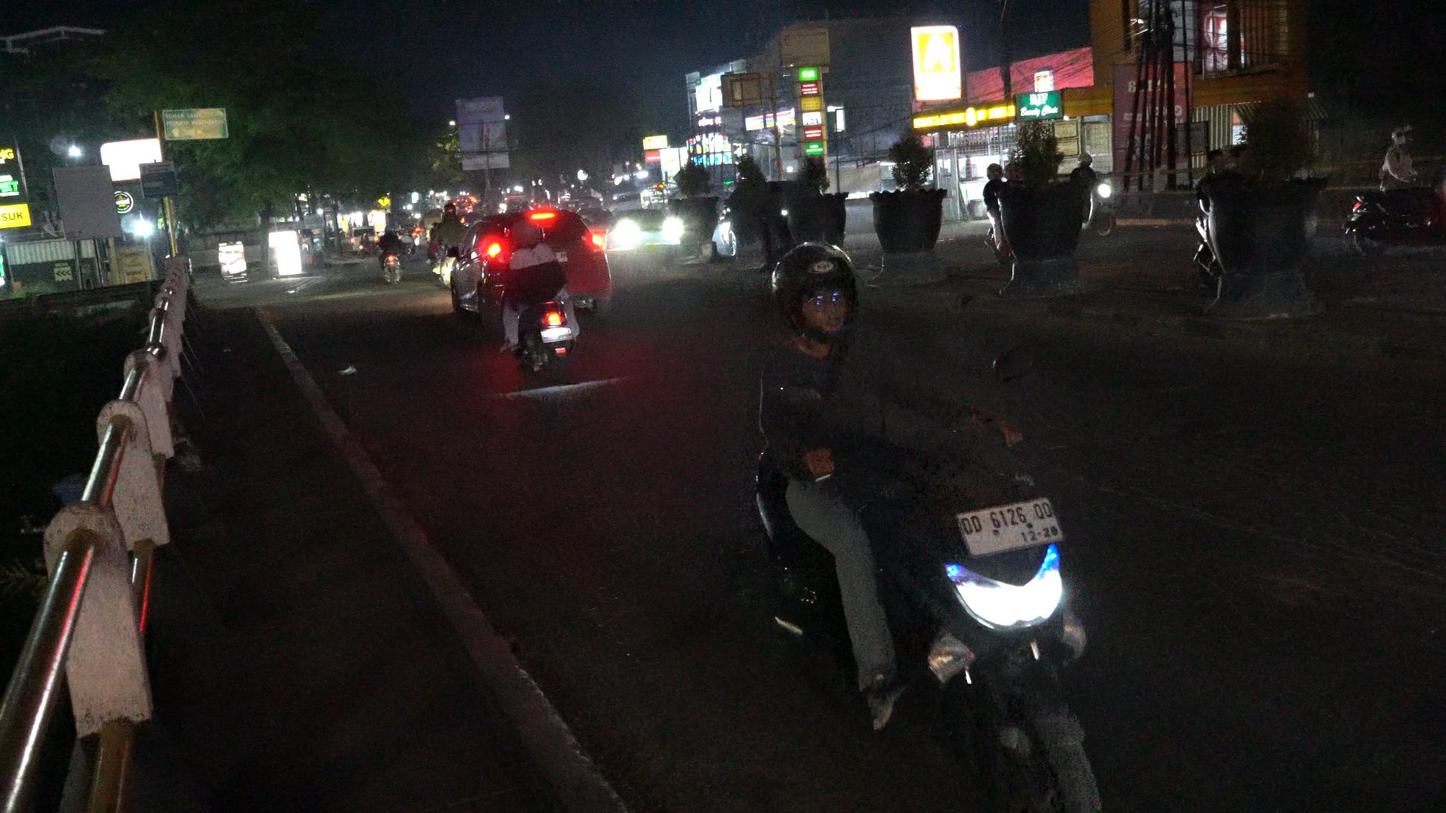number-plate: (952, 495, 1068, 561)
